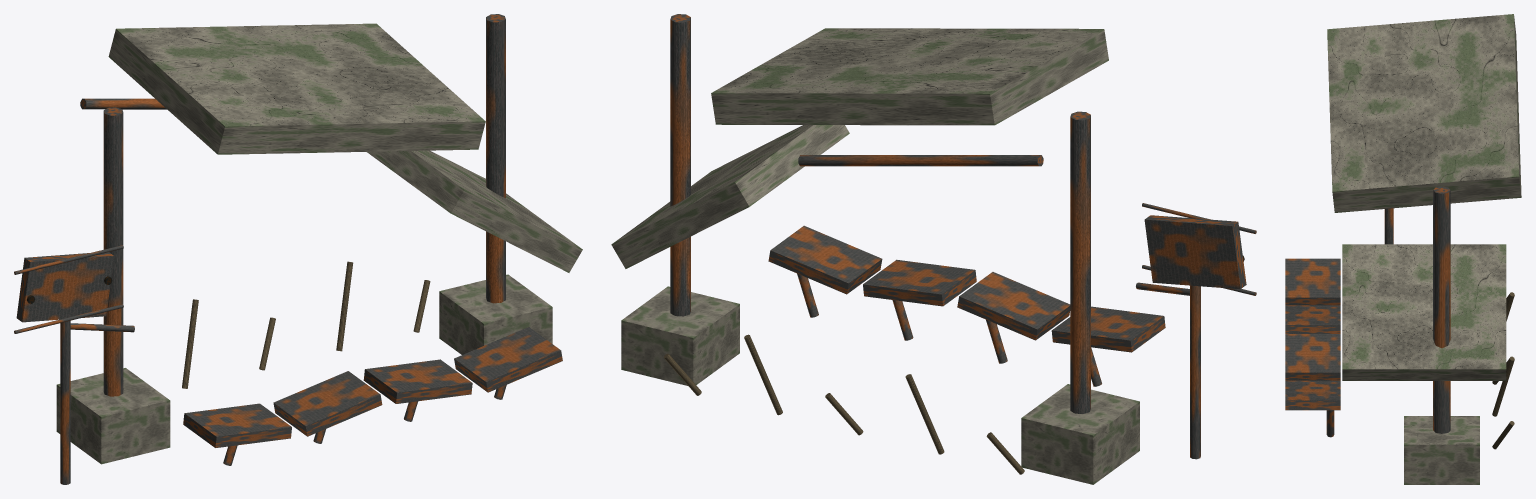
The model's file is abandonedTransitStop.glb.
3 renders of one model, left to right at view 1: azimuth 30°, elevation 25°; view 2: azimuth 150°, elevation 25°; view 3: azimuth 270°, elevation 25°, orthographic. The views are drawn at different scales.
Visible parts, largest first — view 1: b3_prop_abandoned_transit_stop_0, b3_prop_broken_sign_0; view 2: b3_prop_abandoned_transit_stop_0, b3_prop_broken_sign_0; view 3: b3_prop_abandoned_transit_stop_0, b3_prop_broken_sign_0.
Boxes of the visible parts, <box> form: b3_prop_abandoned_transit_stop_0: <box>56,14,582,465</box>; b3_prop_broken_sign_0: <box>14,245,134,484</box>; b3_prop_abandoned_transit_stop_0: <box>611,14,1165,484</box>; b3_prop_broken_sign_0: <box>1136,203,1256,459</box>; b3_prop_abandoned_transit_stop_0: <box>1285,14,1521,484</box>; b3_prop_broken_sign_0: <box>1384,208,1393,244</box>.
Bounding box in the file's own units: 4.63 × 2.98 × 2.01.
4 materials, 4 textured.
